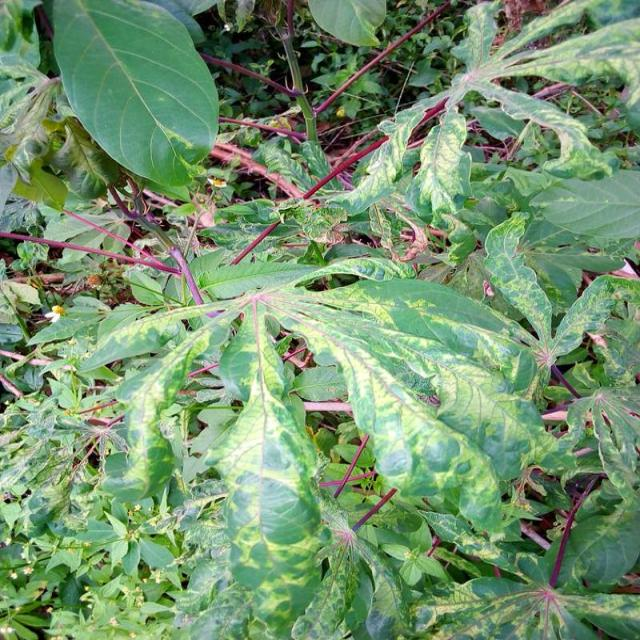cassava leaf: (267, 275, 564, 538), (45, 0, 221, 199)
